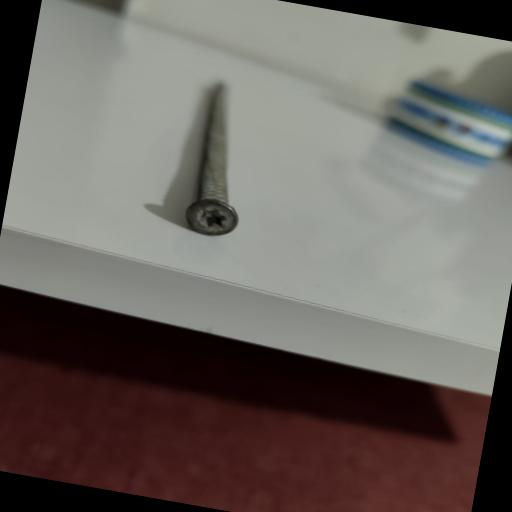Torx: (178, 192, 240, 243)
